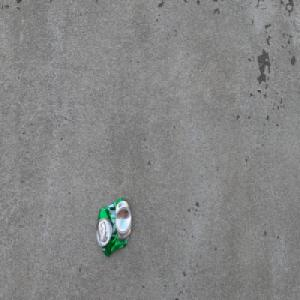SodaCan: (96, 197, 132, 257)
